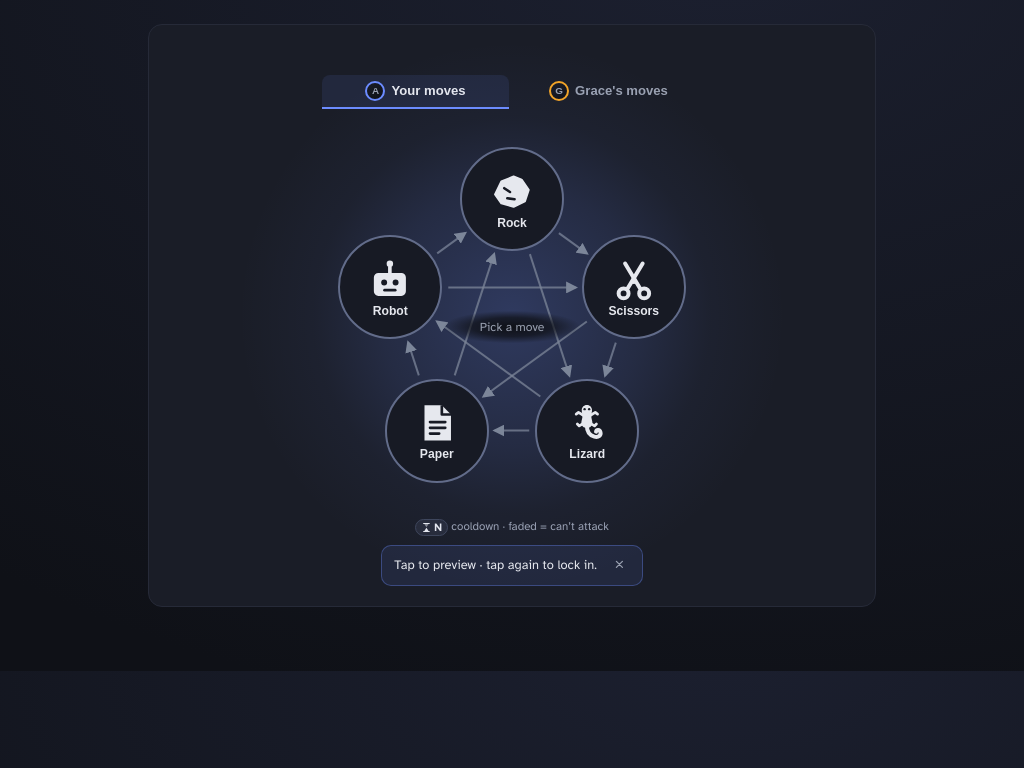
the beginner guidance fits the board it teaches › leaves the move it is describing readable at 320px
This screenshot has width=1024, height=768.
Click the button with class "move-btn" showing "Rock".
click(512, 199)  # box [460,147,564,251]
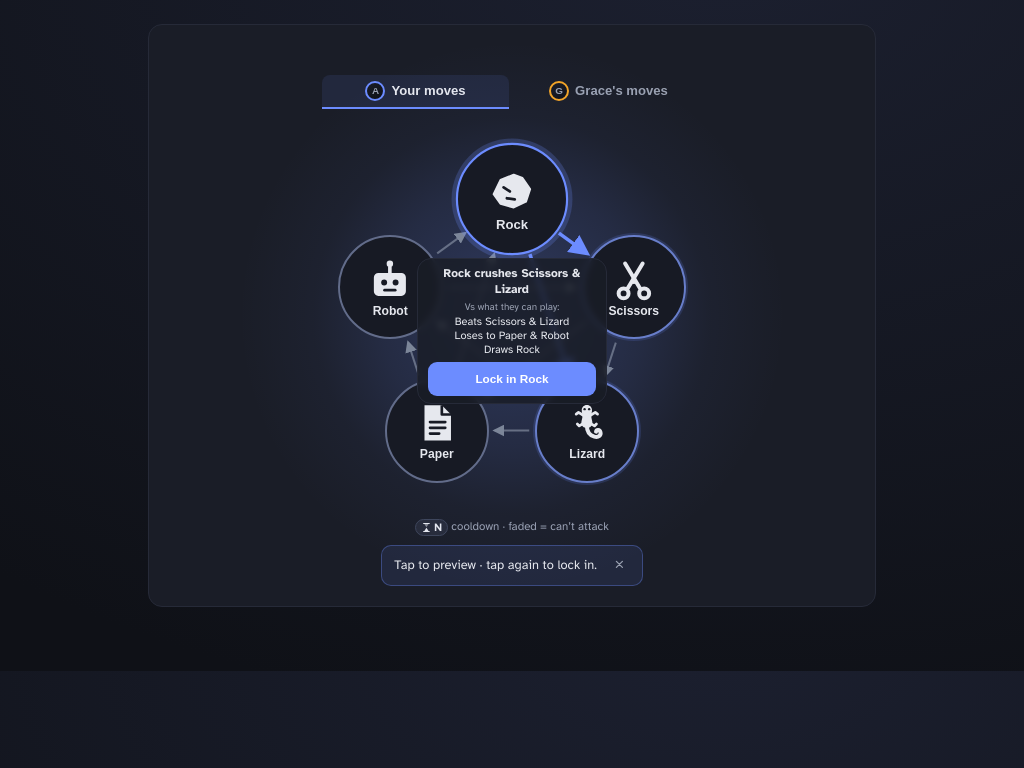
expect the list is shown: met, box [454,315,569,358]
